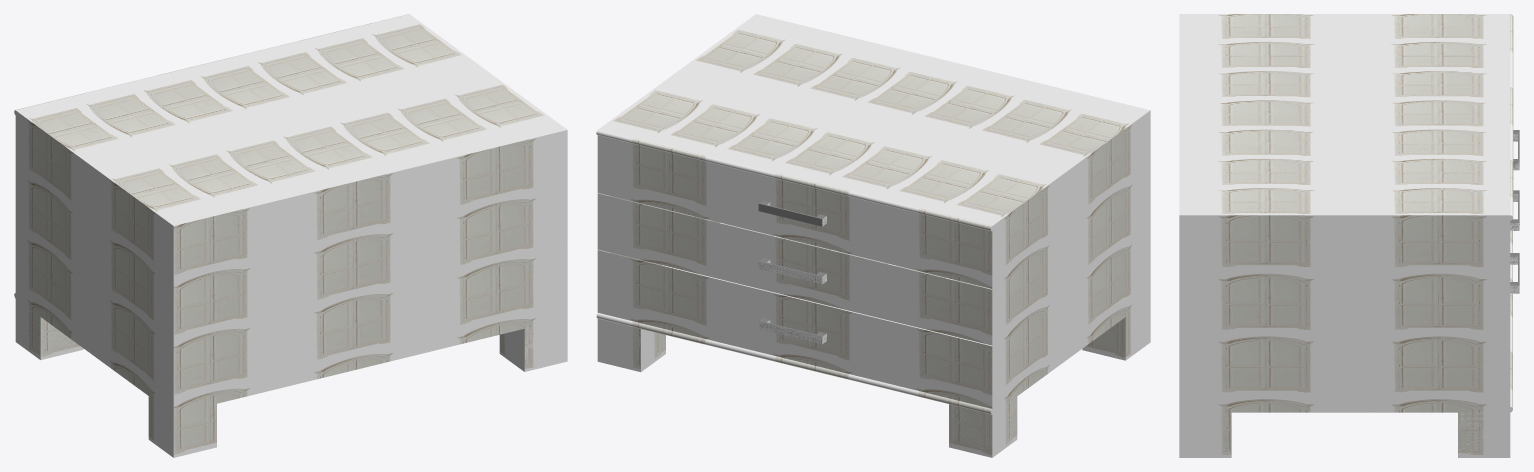
3 renders of one model, left to right at view 1: azimuth 30°, elevation 25°; view 2: azimuth 150°, elevation 25°; view 3: azimuth 270°, elevation 25°, orthographic. The views are drawn at different scales.
Parts seen in each view (by area): view 1: mesh1_mesh1-geometry; view 2: mesh1_mesh1-geometry; view 3: mesh1_mesh1-geometry.
Part boxes in pixels (x1,y1,x2,y2): mesh1_mesh1-geometry: (14,14,567,457); mesh1_mesh1-geometry: (596,14,1150,457); mesh1_mesh1-geometry: (1179,14,1519,457).
Bounding box in the file's own units: 0.7399 × 0.4161 × 0.5286.
